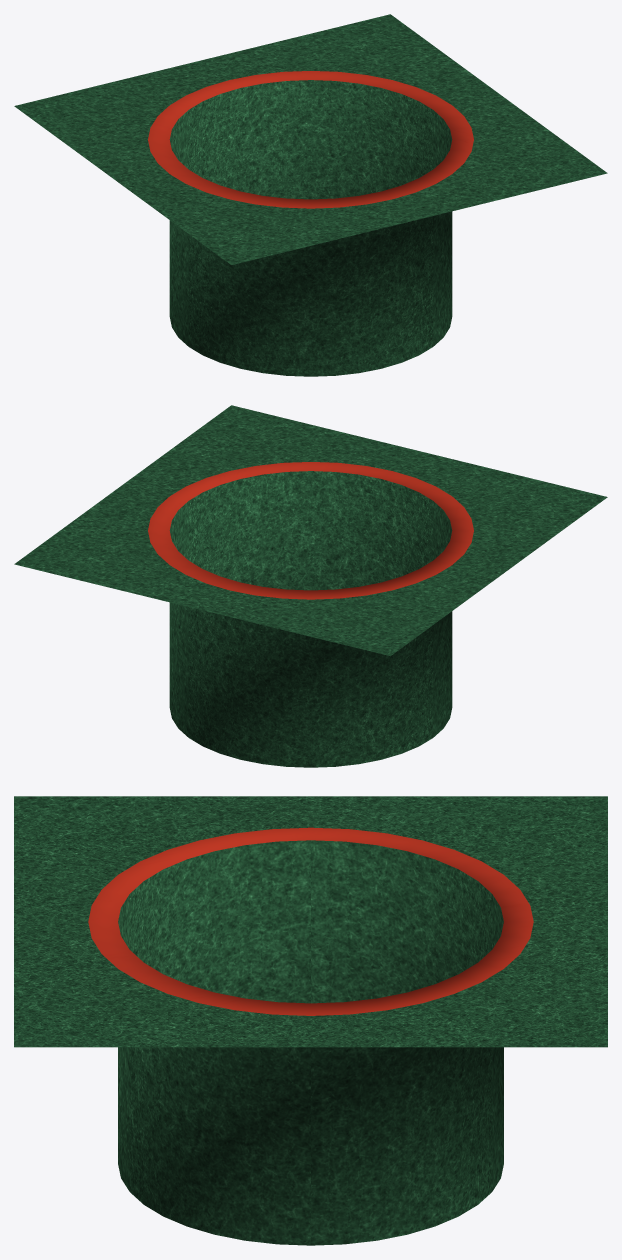
Rendered from PoolTablePocket.fbx.
The picture shows the model from 3 angles, top to bottom: view 1: azimuth 30°, elevation 25°; view 2: azimuth 150°, elevation 25°; view 3: azimuth 270°, elevation 25°; orthographic projection. The views are drawn at different scales.
Parts seen in each view (by area): view 1: Cylinder, Plane.001; view 2: Cylinder, Plane.001; view 3: Cylinder, Plane.001.
Part boxes in pixels (x1,y1,x2,y2): Cylinder: (148,71,473,376); Plane.001: (14,14,607,264); Cylinder: (148,462,473,767); Plane.001: (14,405,607,655); Cylinder: (88,827,533,1245); Plane.001: (14,796,607,1047).
Bounding box in the file's own units: 2 × 0.9 × 2.
